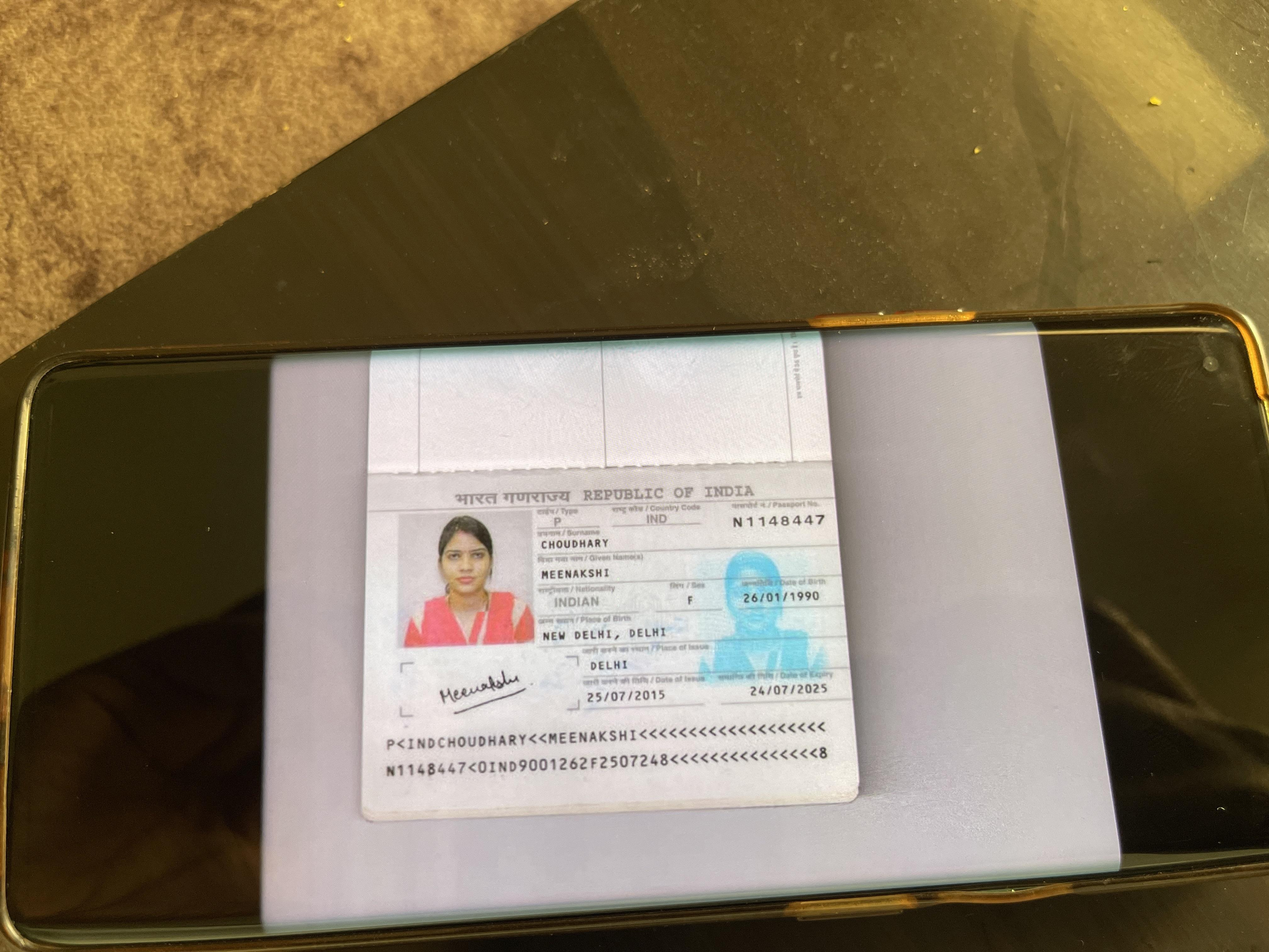DOB: (737, 588, 830, 609)
Surname: (537, 538, 620, 552)
country_code: (639, 512, 670, 528)
date_of_expiry: (747, 679, 840, 700)
date_of_issue: (572, 686, 678, 710)
details: (375, 721, 844, 778)
name: (536, 567, 613, 581)
nationality: (549, 594, 604, 614)
passport_no: (731, 513, 827, 532)
photo: (398, 514, 532, 645)
place_of_birth: (541, 627, 672, 640)
place_of_issue: (586, 656, 633, 674)
sex: (680, 593, 705, 608)
sign: (431, 671, 542, 713)
type: (548, 513, 568, 532)
